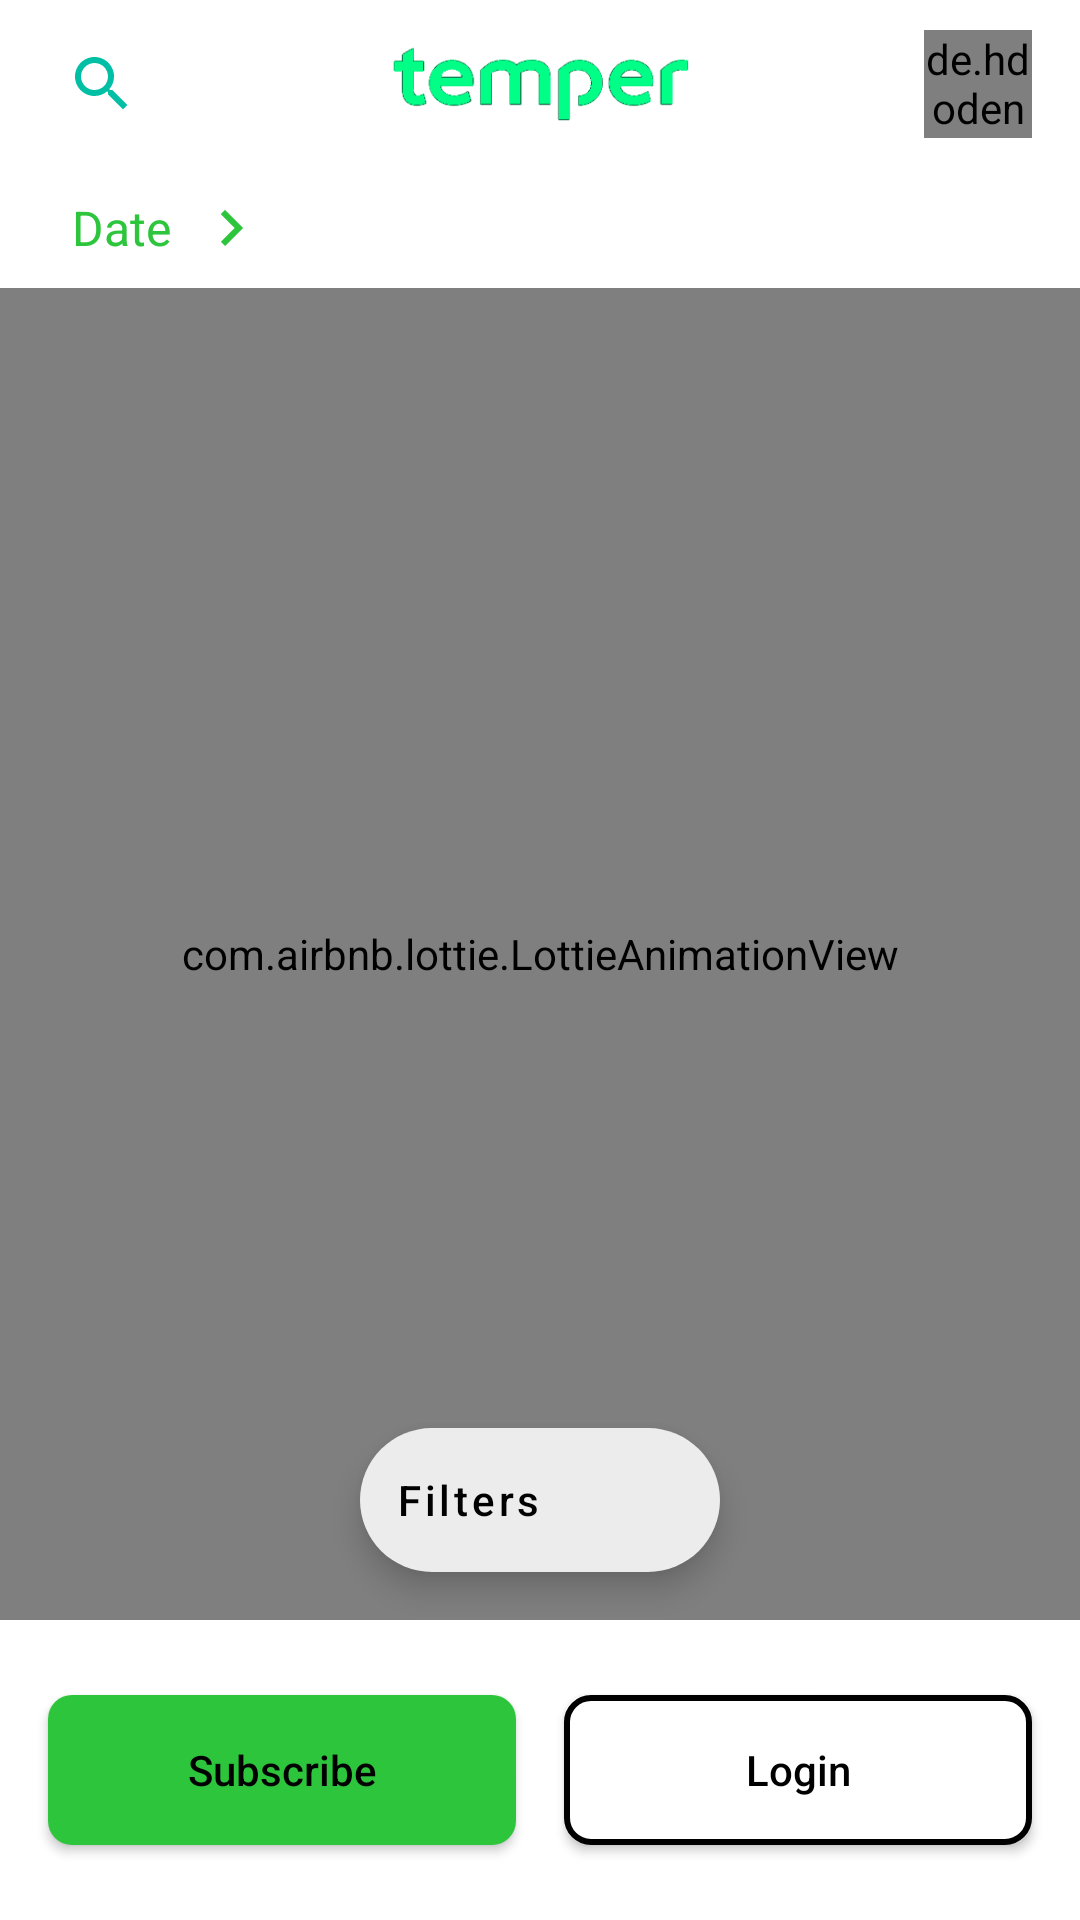

Point at icon controls on the screen. Image size 1080*1920, points as [x,y].
right arrow: [232,228]
search: [101,83]
